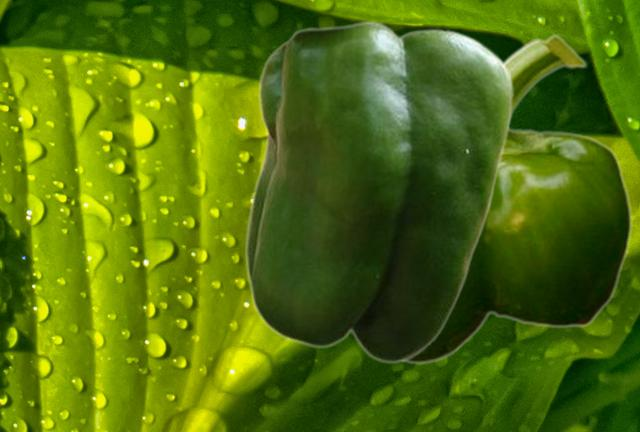bell_pepper: (244, 20, 514, 363), (397, 34, 631, 364)
